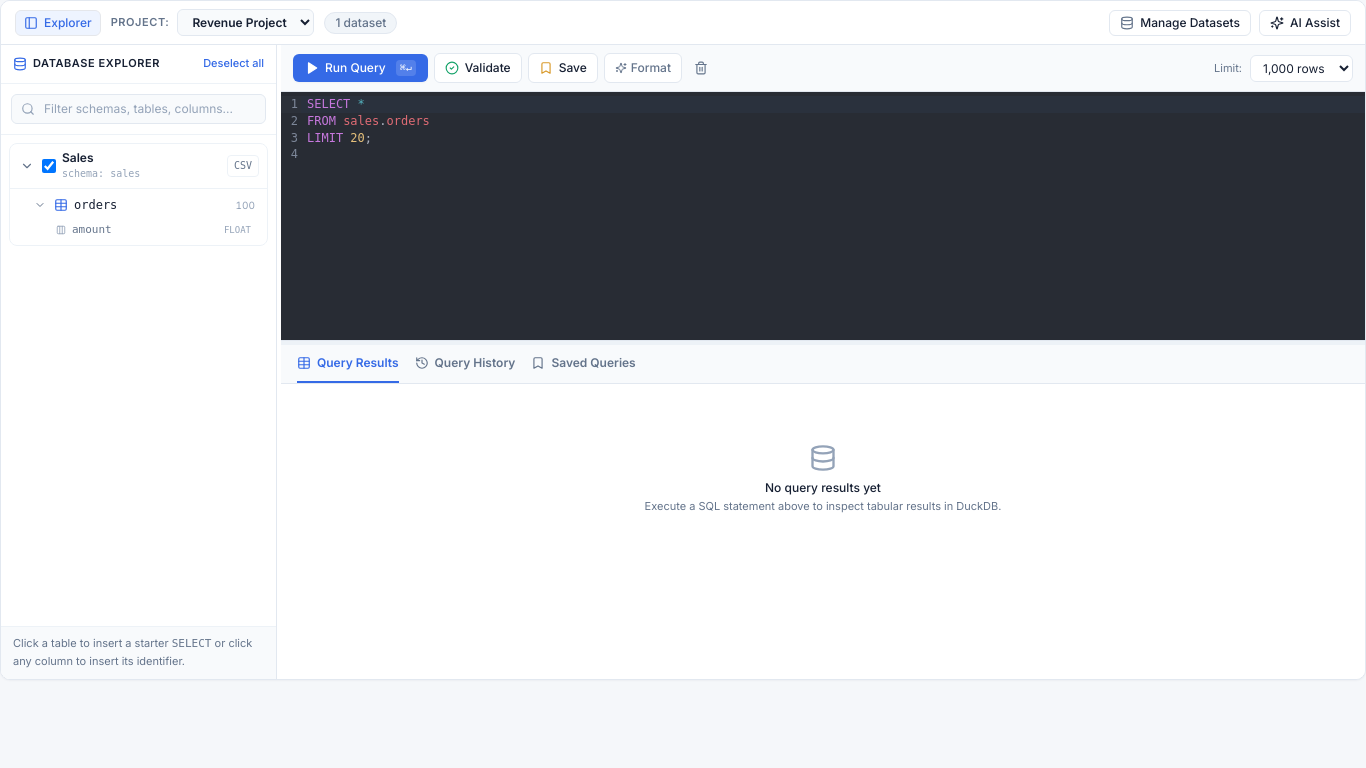
Test: Stage 3 Dataset Detail & SQL Analytics IDE › supports collapsible Contextual AI Assist panel inside SQL Analytics IDE
The width and height of the screenshot is (1366, 768).
expect the text "Sales" is shown: met, box x1=62 y1=150 x2=94 y2=165
// Open Contextual AI Assist panel
Click the button "AI Assist" at (1305, 22), box x1=1259 y1=10 x2=1351 y2=36
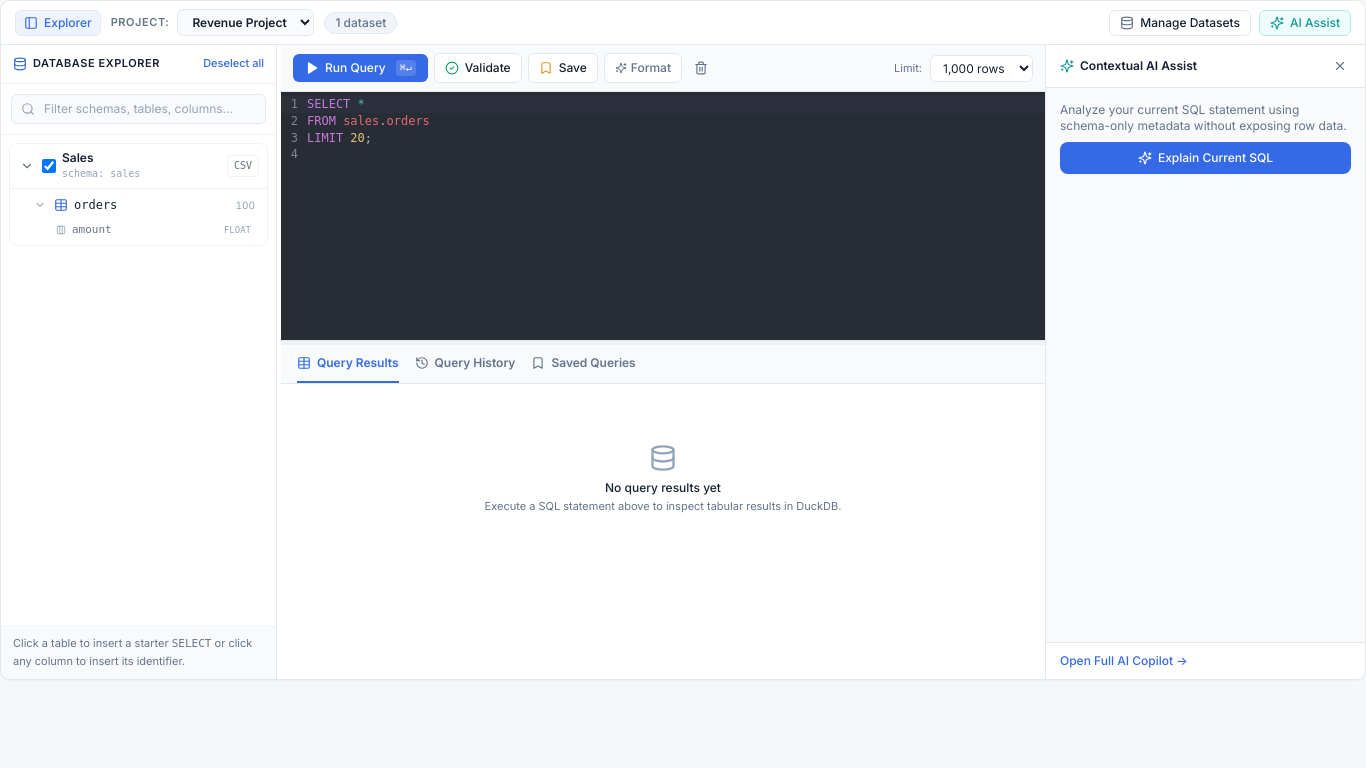
expect the text "Contextual AI Assist" is shown: met, box x1=1080 y1=58 x2=1197 y2=74
Click the button "Explain Current SQL" at (1206, 158), box x1=1060 y1=142 x2=1351 y2=174
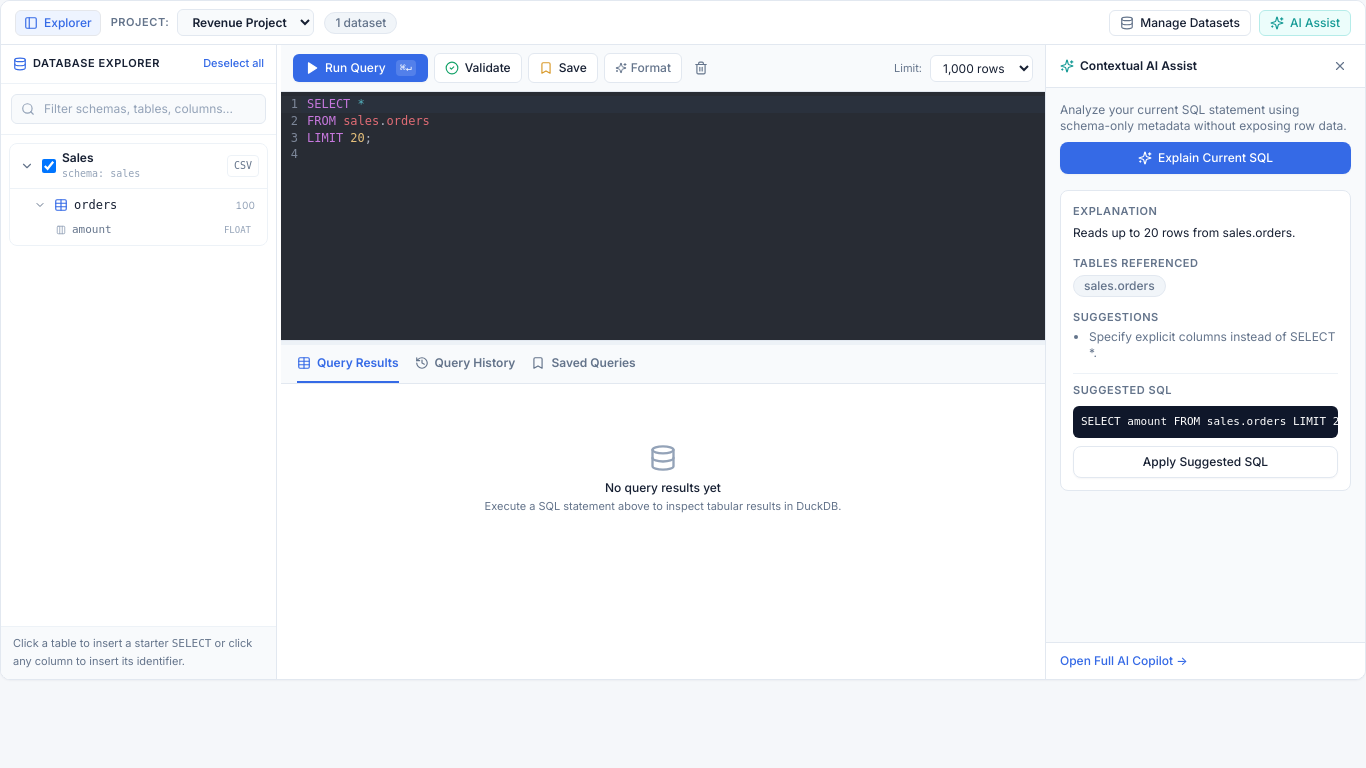
expect the text "Reads up to 20 rows from sales.orders." is shown: met, box x1=1073 y1=225 x2=1296 y2=240
expect the button "Apply Suggested SQL" is shown: met, box x1=1073 y1=446 x2=1338 y2=478
